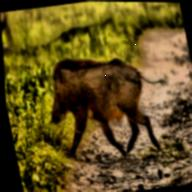boar: (35, 29, 187, 176)
